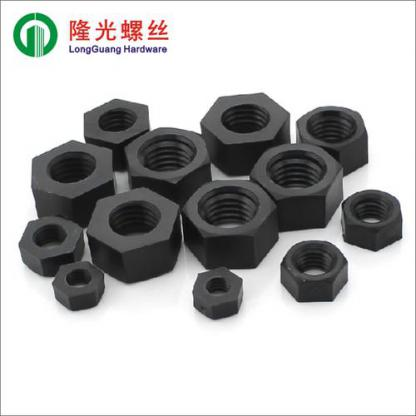FOD: (180, 176, 281, 272), (87, 188, 184, 285), (250, 140, 344, 233), (26, 135, 119, 226), (199, 89, 294, 175), (293, 103, 375, 177), (79, 97, 152, 173), (278, 238, 350, 303), (16, 213, 88, 276), (340, 185, 402, 252), (190, 266, 247, 323), (51, 259, 107, 315)
